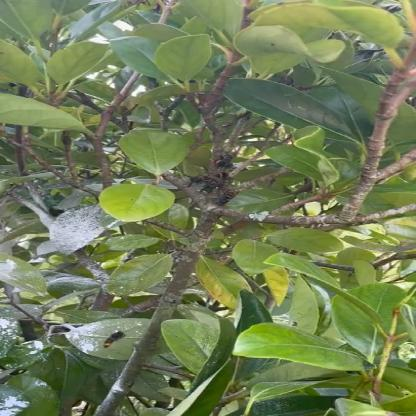bee: (187, 138, 261, 207), (101, 321, 136, 358)
